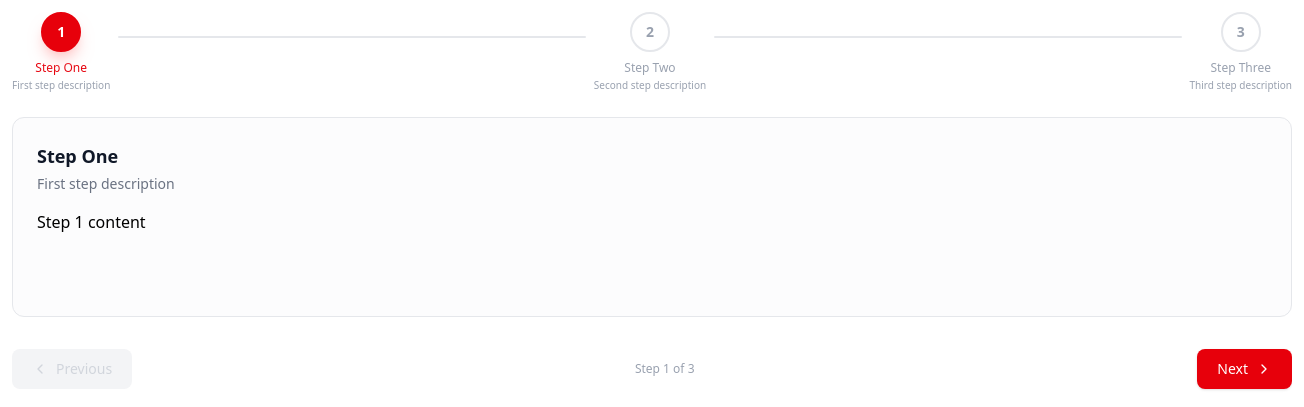
Test case: Form Component — Multi-Stage Navigation › Step Navigation › advances to next step when Next is clicked
The image size is (1304, 407).
Click the button "Next" at [1245, 369], box [1197,349,1292,389]
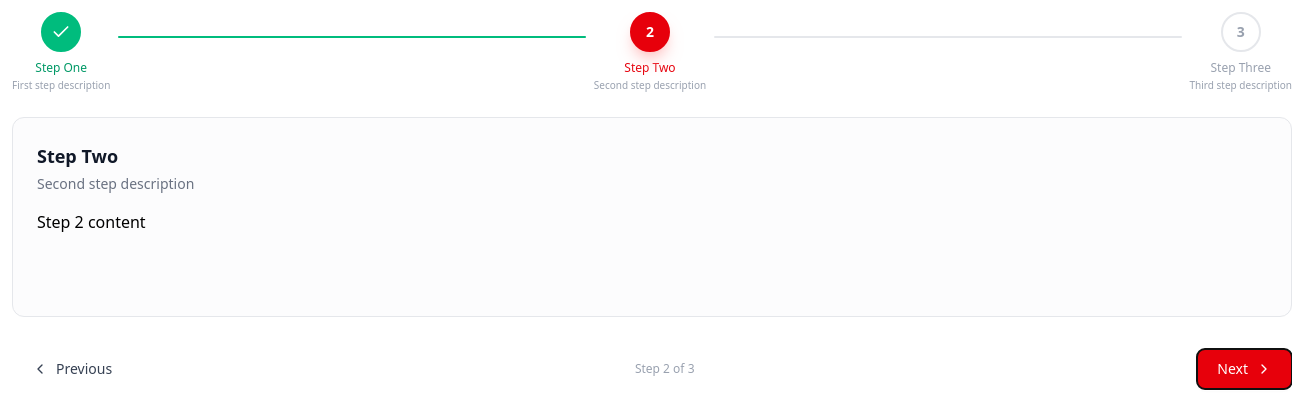
Expected: the text "Step 2 content" is shown, [37,211,146,233]
